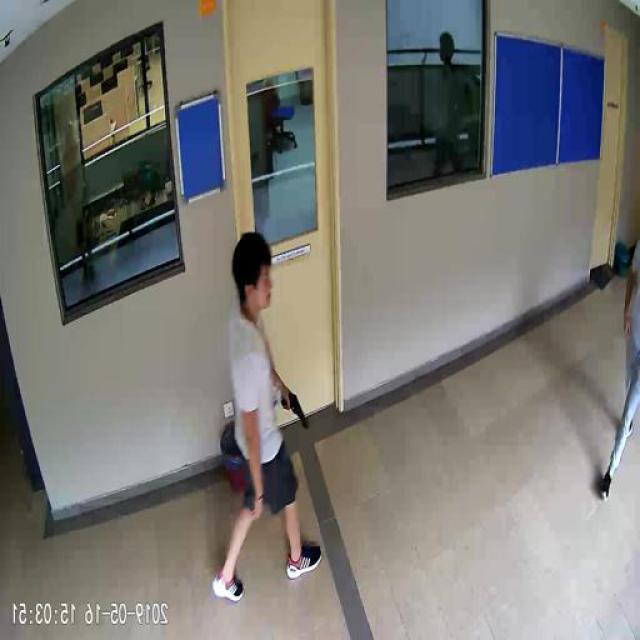Gun: (282, 386, 310, 425)
